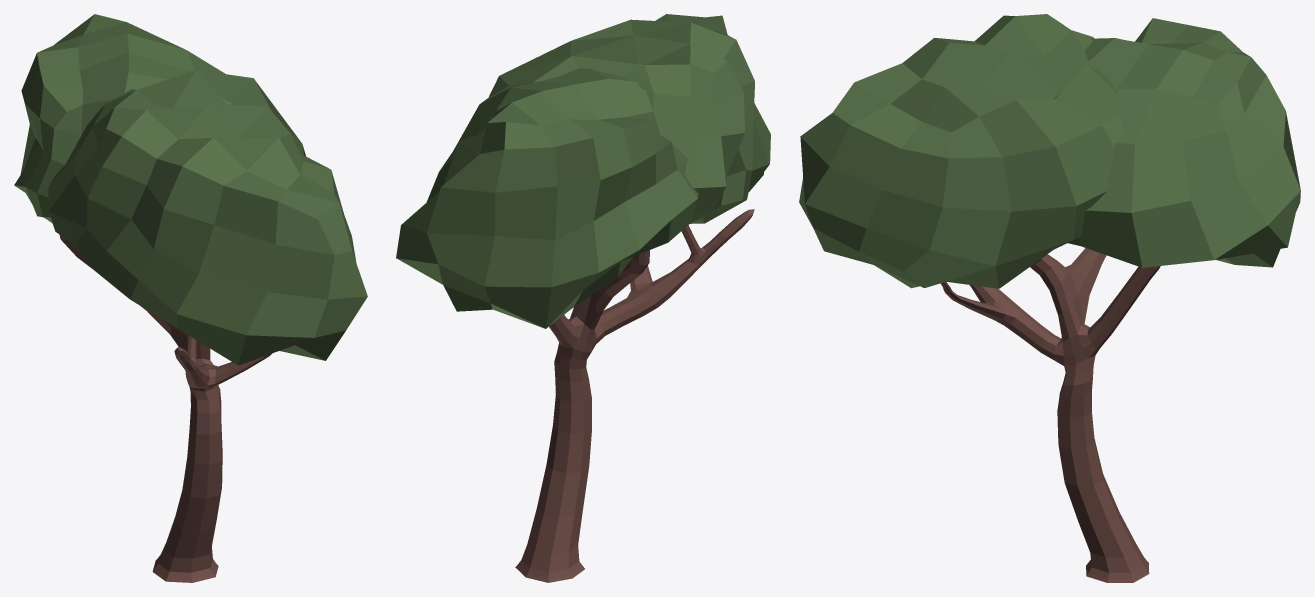
Rendered from tree3.glb.
3 renders of one model, left to right at view 1: azimuth 30°, elevation 25°; view 2: azimuth 150°, elevation 25°; view 3: azimuth 270°, elevation 25°, orthographic. The views are drawn at different scales.
Parts seen in each view (by area): view 1: CommonTree_5; view 2: CommonTree_5; view 3: CommonTree_5.
Part boxes in pixels (left/top/right/bottom): CommonTree_5: left=14, top=14, right=367, bottom=582; CommonTree_5: left=396, top=14, right=770, bottom=582; CommonTree_5: left=799, top=14, right=1300, bottom=582.
Size of the model in its own units: 1.29 by 2.53 by 2.25.
